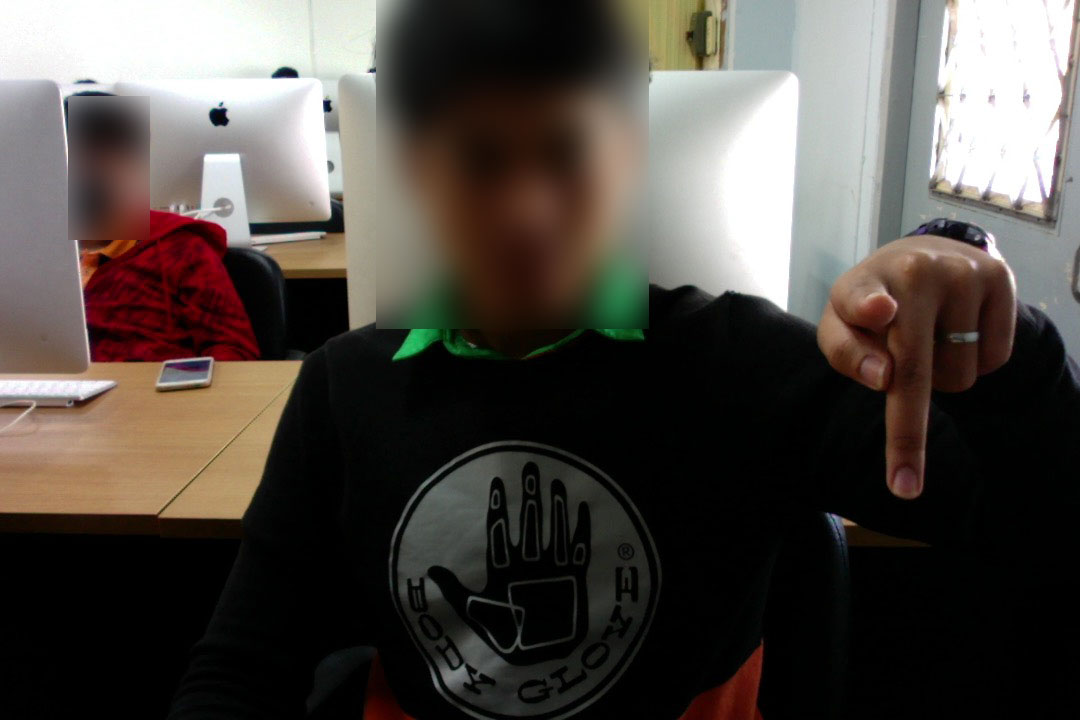por: (809, 200, 1023, 499)
